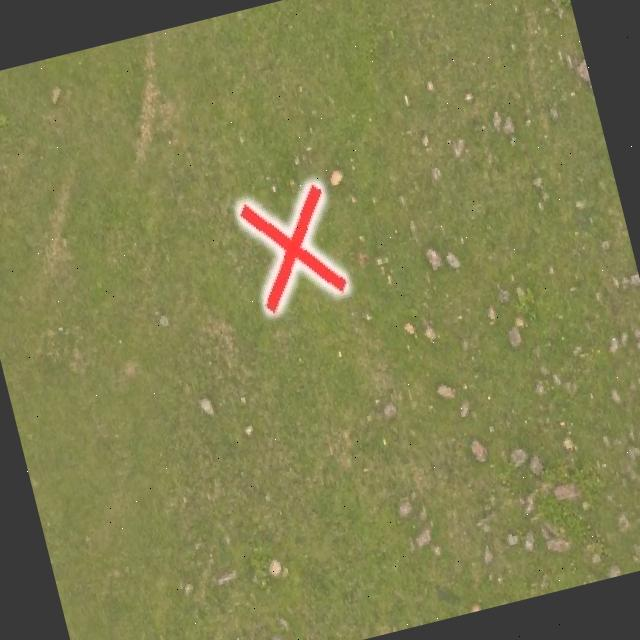x_marker: (236, 182, 347, 311)
